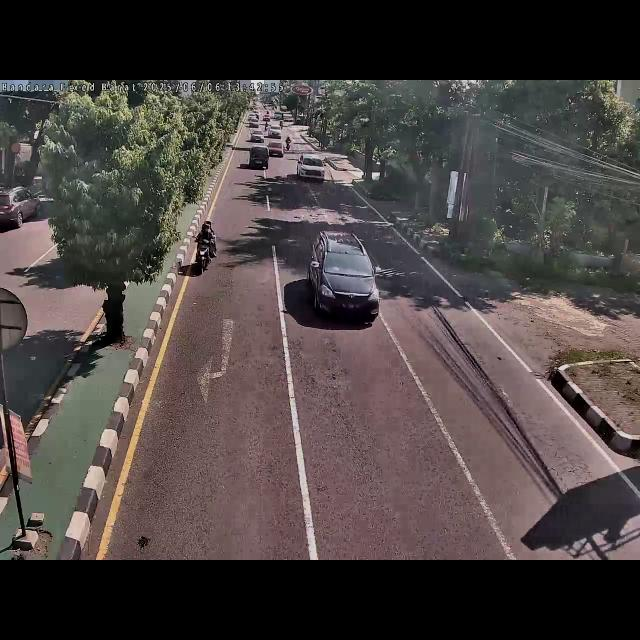Mobil: (304, 224, 384, 326), (294, 153, 330, 184), (244, 143, 274, 173)
Motor: (190, 217, 222, 281)
